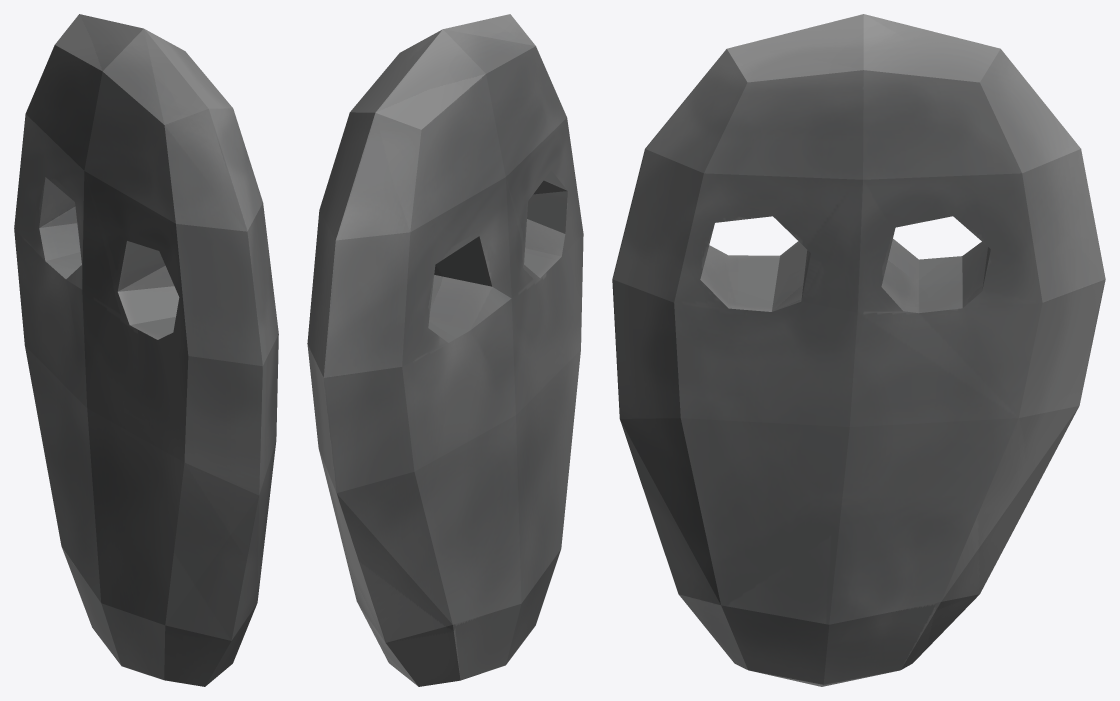
Rendered from stoneMaskV2.glb.
3 views of the same model, side by side, from view 1: azimuth 30°, elevation 25°; view 2: azimuth 150°, elevation 25°; view 3: azimuth 270°, elevation 25° (orthographic). The views are drawn at different scales.
Visible parts, largest first — view 1: Cube; view 2: Cube; view 3: Cube.
Boxes of the visible parts, x1,y1,x2,y2 form: Cube: [14, 14, 278, 686]; Cube: [307, 14, 583, 686]; Cube: [612, 14, 1105, 686].
Size of the model in its own units: 0.5495 by 2.6 by 1.73.
Materials: 1 (1 with a texture image).
